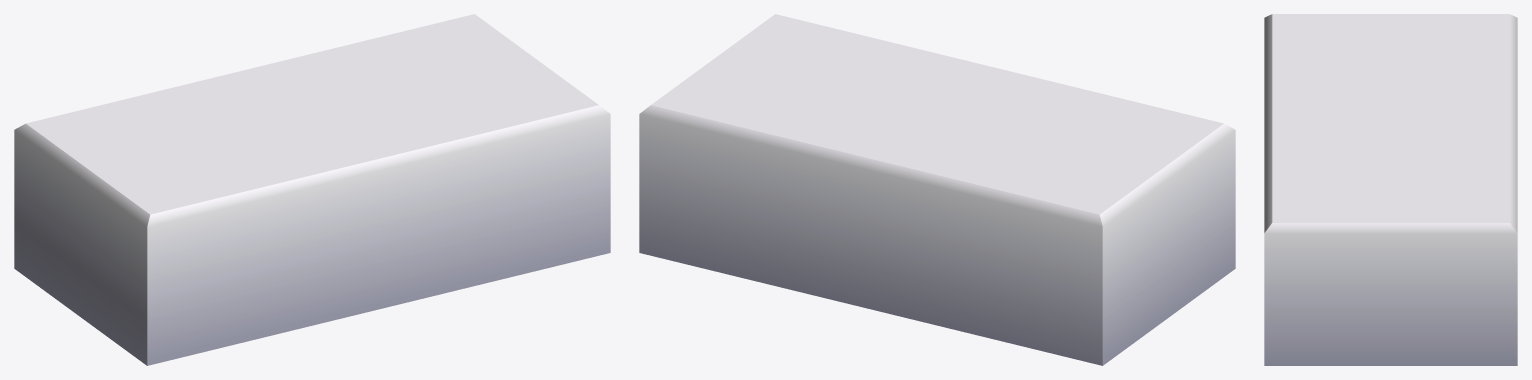
The model's file is kenney-brick-none-hq-brick-2-x-4.glb.
3 renders of one model, left to right at view 1: azimuth 30°, elevation 25°; view 2: azimuth 150°, elevation 25°; view 3: azimuth 270°, elevation 25°, orthographic. The views are drawn at different scales.
Visible parts, largest first — view 1: none-hq-brick-2x4; view 2: none-hq-brick-2x4; view 3: none-hq-brick-2x4.
Boxes of the visible parts, left/top/right/bottom form: none-hq-brick-2x4: left=14, top=14, right=610, bottom=365; none-hq-brick-2x4: left=639, top=14, right=1235, bottom=365; none-hq-brick-2x4: left=1264, top=14, right=1517, bottom=365.
Size of the model in its own units: 0.318 by 0.096 by 0.158.
Materials: 1 (1 with a texture image).
